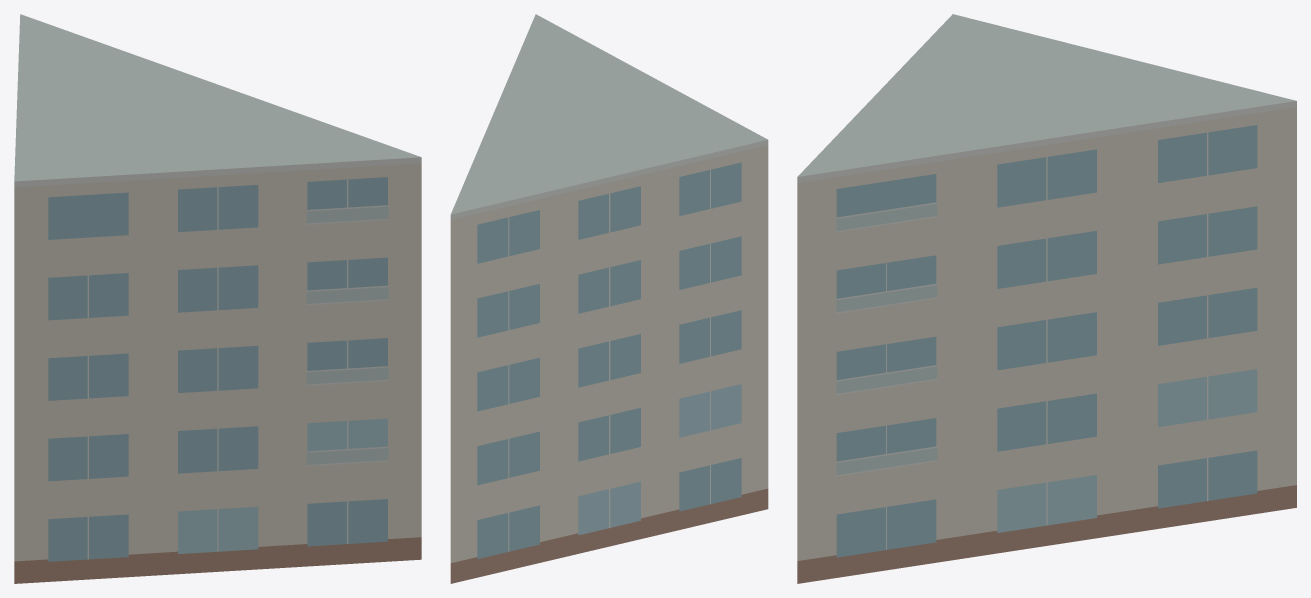
File: survey-upis-32493581.glb
The picture shows the model from 3 angles, left to right: view 1: azimuth 30°, elevation 25°; view 2: azimuth 150°, elevation 25°; view 3: azimuth 270°, elevation 25°; orthographic projection. The views are drawn at different scales.
Parts seen in each view (by area): view 1: survey-upis-32493581.tmp; view 2: survey-upis-32493581.tmp; view 3: survey-upis-32493581.tmp.
Boxes of the visible parts, bbox=[...] form: survey-upis-32493581.tmp: bbox=[14, 14, 421, 583]; survey-upis-32493581.tmp: bbox=[450, 14, 768, 583]; survey-upis-32493581.tmp: bbox=[797, 14, 1296, 583].
Bounding box in the file's own units: 14.19 × 16.5 × 18.38.
